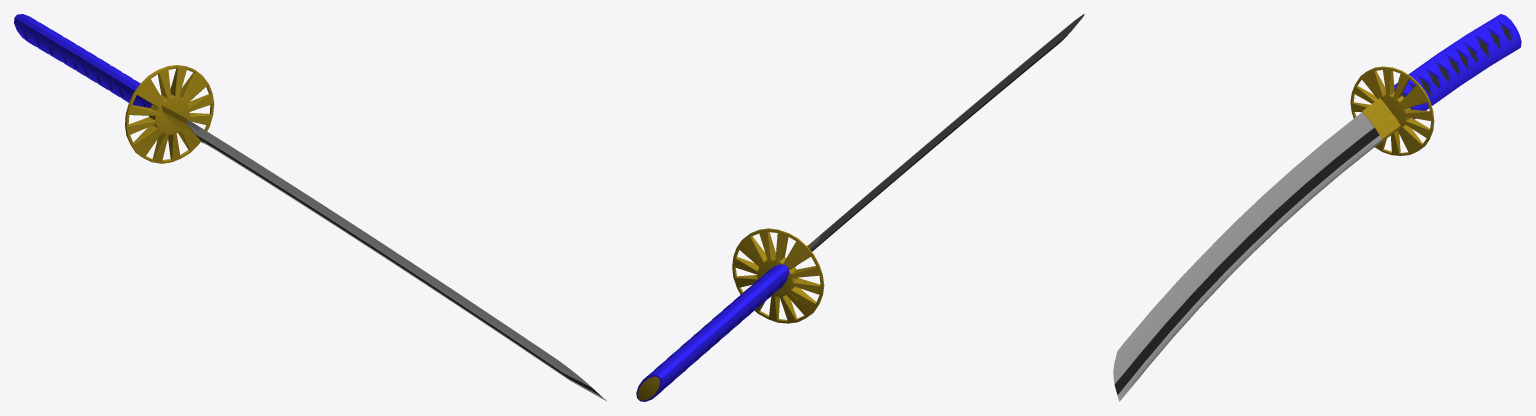
File: swordKatana.FBX
The picture shows the model from 3 angles, left to right: view 1: azimuth 30°, elevation 25°; view 2: azimuth 150°, elevation 25°; view 3: azimuth 330°, elevation 25°; orthographic projection. The views are drawn at different scales.
Parts seen in each view (by area): view 1: Katana; view 2: Katana; view 3: Katana.
Part boxes in pixels (<box>): Katana: <box>14,14,606,401</box>; Katana: <box>636,14,1084,401</box>; Katana: <box>1113,14,1521,401</box>.
Size of the model in its own units: 4.96 by 3.96 by 38.38.
